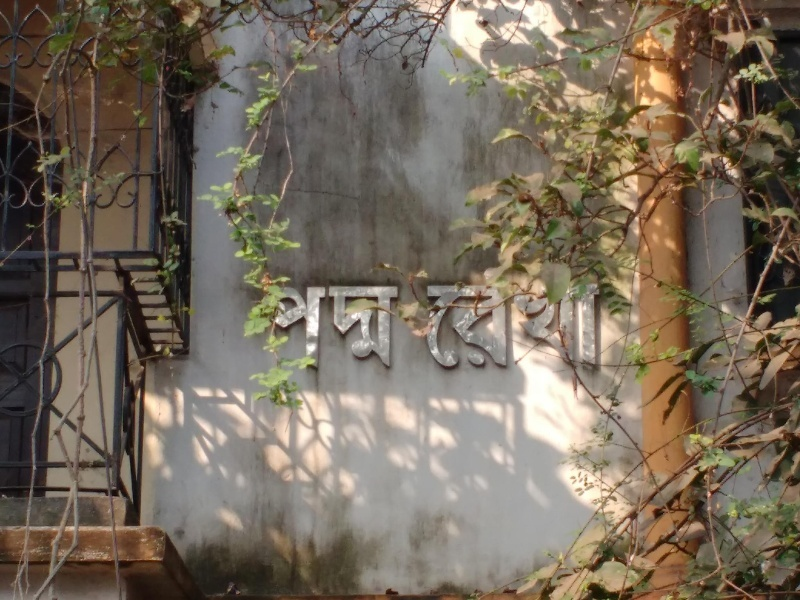text: (417, 276, 432, 373), (433, 276, 448, 373), (449, 276, 464, 373), (465, 276, 480, 373), (481, 276, 496, 373), (497, 276, 512, 373), (513, 276, 528, 373), (529, 276, 544, 373), (545, 276, 560, 373), (561, 276, 576, 373), (577, 276, 592, 373), (593, 276, 608, 373), (273, 281, 288, 373), (289, 281, 304, 373), (305, 281, 320, 373), (321, 281, 336, 373), (337, 281, 352, 373), (353, 281, 368, 373), (369, 281, 384, 373), (385, 281, 400, 373), (263, 281, 272, 373), (401, 281, 408, 373), (609, 276, 611, 373)
